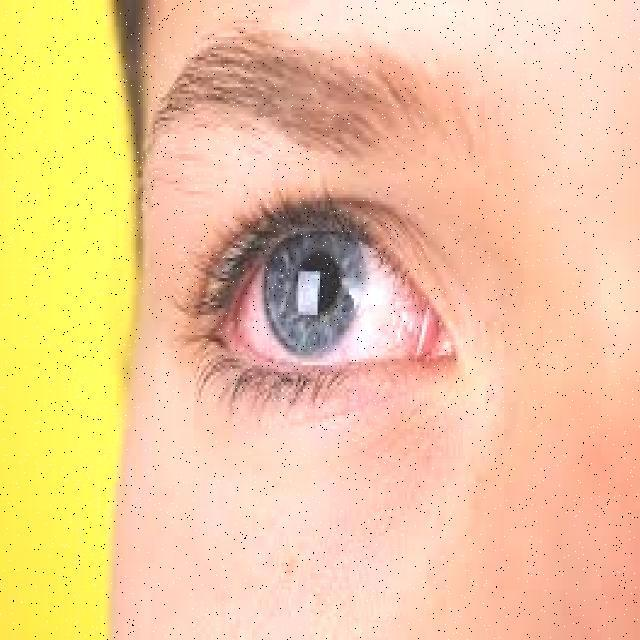Conjunctivitis: (195, 226, 463, 367)
